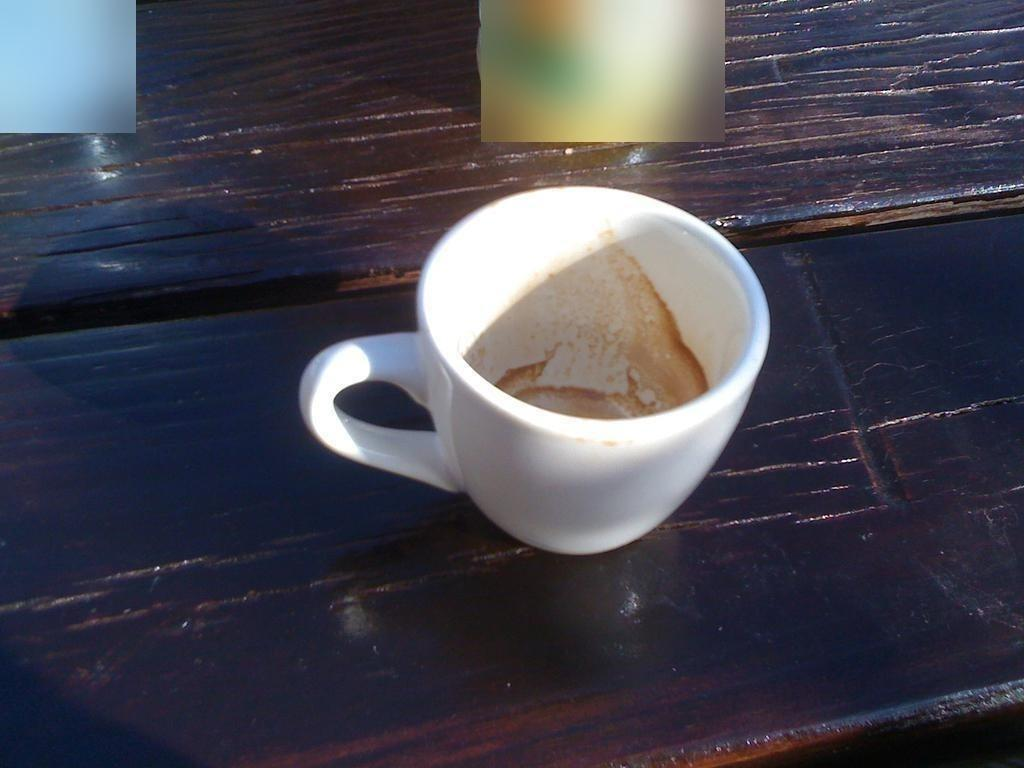cup-handle: (299, 182, 773, 555)
